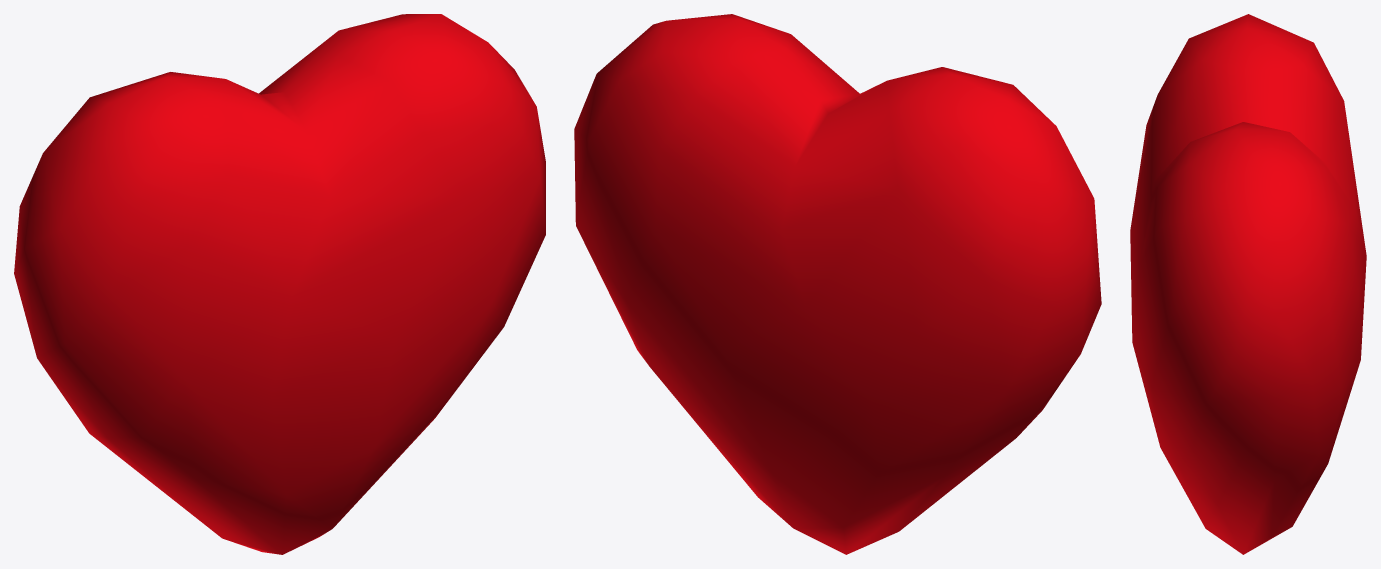
The model's file is Heart1.fbx.
3 renders of one model, left to right at view 1: azimuth 30°, elevation 25°; view 2: azimuth 150°, elevation 25°; view 3: azimuth 270°, elevation 25°, orthographic. The views are drawn at different scales.
Visible parts, largest first — view 1: Heart; view 2: Heart; view 3: Heart.
Boxes of the visible parts, x1=… form: Heart: x1=14, y1=14, x2=545, y2=554; Heart: x1=574, y1=14, x2=1101, y2=554; Heart: x1=1130, y1=14, x2=1366, y2=554.
Bounding box in the file's own units: 133 × 125 × 57.45.
